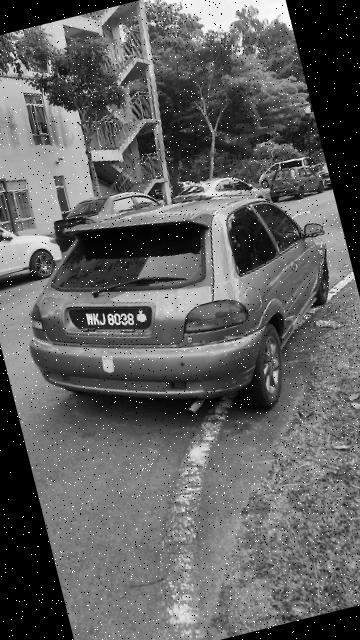License_Plate: (64, 287, 161, 357)
car: (1, 155, 360, 466)
